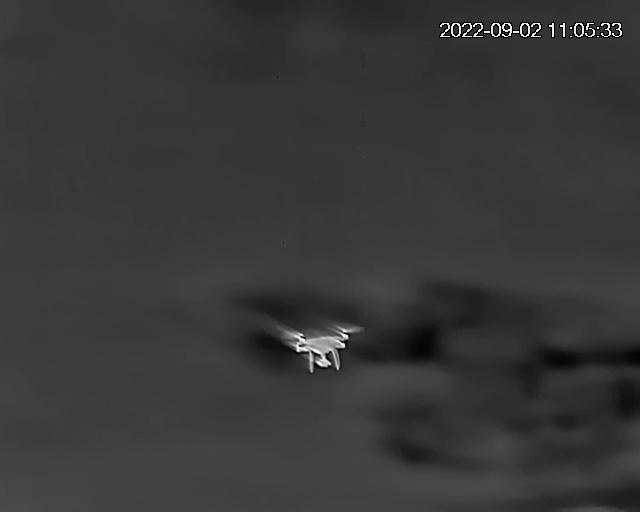DJI-Phantom: (282, 325, 361, 372)
